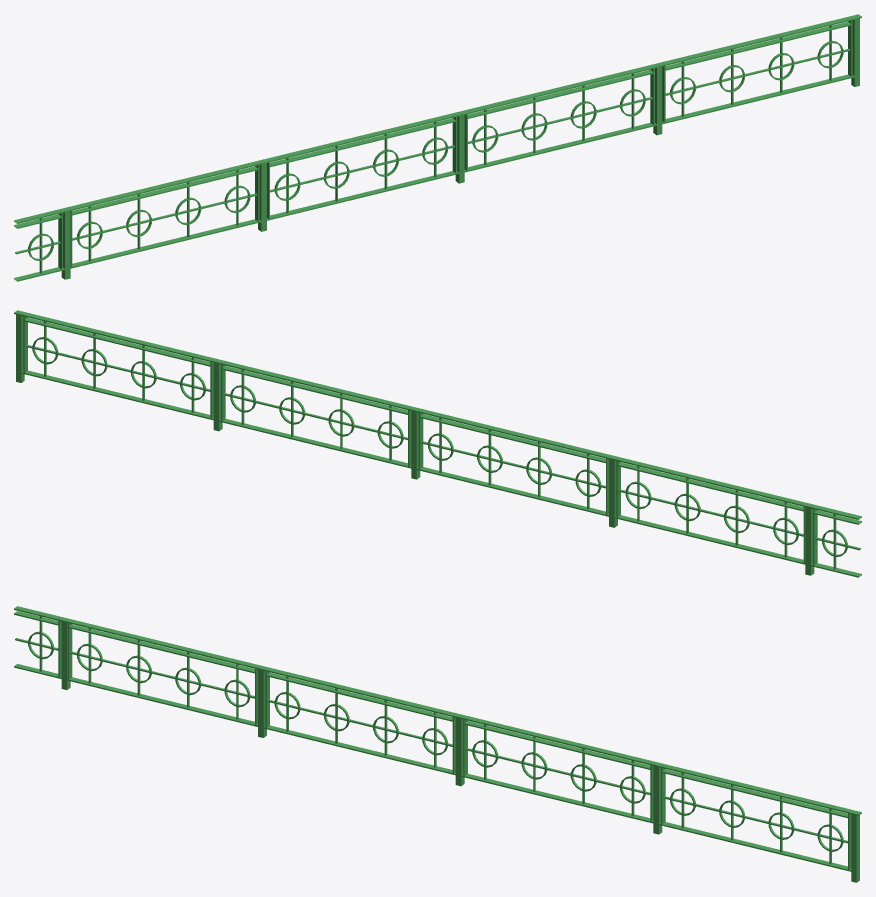
The model's file is Fence_EastStairs.fbx.
The picture shows the model from 3 angles, top to bottom: view 1: azimuth 30°, elevation 25°; view 2: azimuth 150°, elevation 25°; view 3: azimuth 330°, elevation 25°; orthographic projection.
Parts seen in each view (by area): view 1: fence_segment_end_1 (×5), fence_segment_end_2 (×4), fence_segment_1 (×4), fence_segment_2 (×4), Fencepost (×4), Fencepost_end; view 2: fence_segment_end_1 (×5), fence_segment_end_2 (×4), fence_segment_1 (×4), fence_segment_2 (×4), Fencepost (×4), Fencepost_end; view 3: fence_segment_end_1 (×5), fence_segment_end_2 (×4), fence_segment_1 (×4), fence_segment_2 (×4), Fencepost (×4), Fencepost_end.
Boxes of the visible parts, <box> form: fence_segment_end_1 (×5): <box>14,16,852,281</box>; fence_segment_end_2 (×4): <box>68,51,709,268</box>; fence_segment_1 (×4): <box>162,27,807,245</box>; fence_segment_2 (×4): <box>113,39,758,257</box>; Fencepost (×4): <box>60,62,664,279</box>; Fencepost_end: <box>849,14,861,86</box>; fence_segment_end_1 (×5): <box>23,312,861,577</box>; fence_segment_end_2 (×4): <box>166,347,807,564</box>; fence_segment_1 (×4): <box>68,323,713,541</box>; fence_segment_2 (×4): <box>117,335,762,553</box>; Fencepost (×4): <box>211,358,815,575</box>; Fencepost_end: <box>14,310,26,382</box>; fence_segment_end_1 (×5): <box>14,606,851,871</box>; fence_segment_end_2 (×4): <box>67,619,708,836</box>; fence_segment_1 (×4): <box>162,642,807,860</box>; fence_segment_2 (×4): <box>112,630,757,848</box>; Fencepost (×4): <box>59,617,663,834</box>; Fencepost_end: <box>849,810,861,882</box>.
Bounding box in the file's own units: 1810 × 141 × 12.67.
